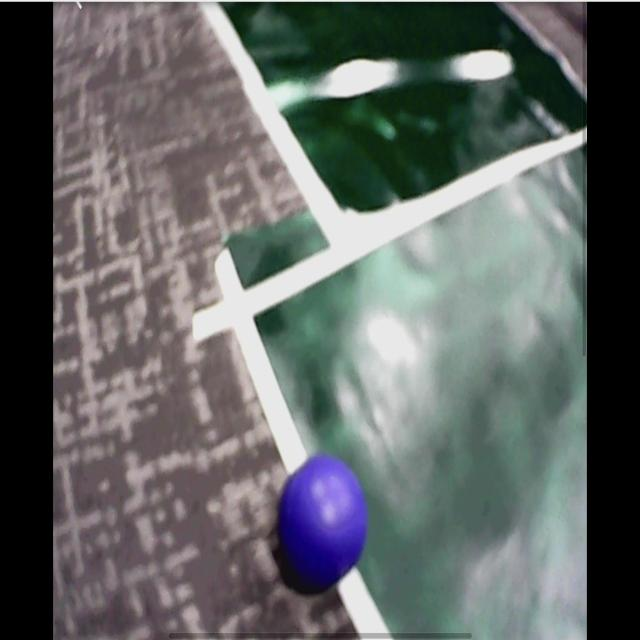ball: (277, 458, 366, 588)
